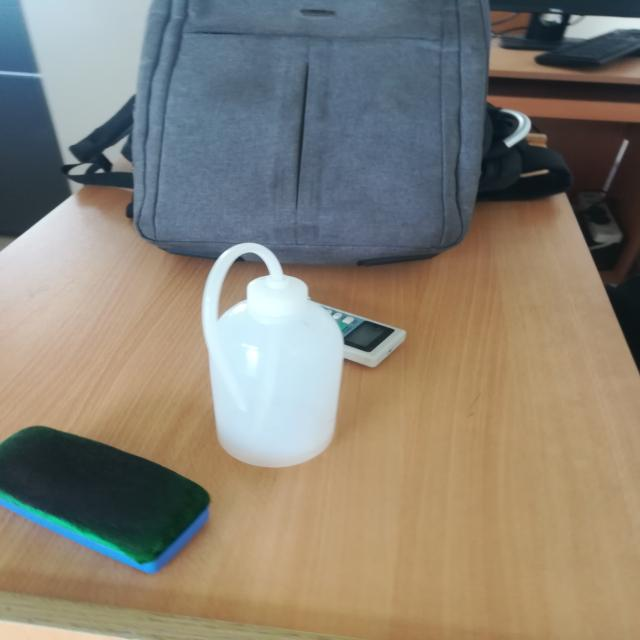Wash_Bottle: (134, 233, 373, 487)
